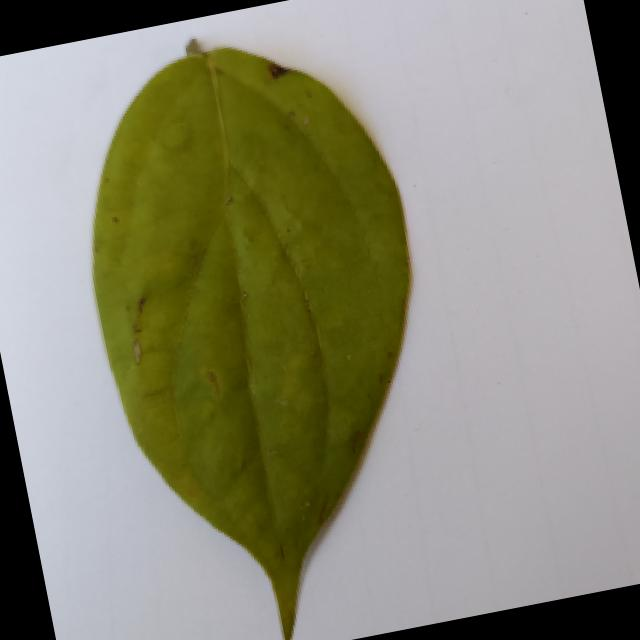slow-decline: (28, 11, 489, 640)
